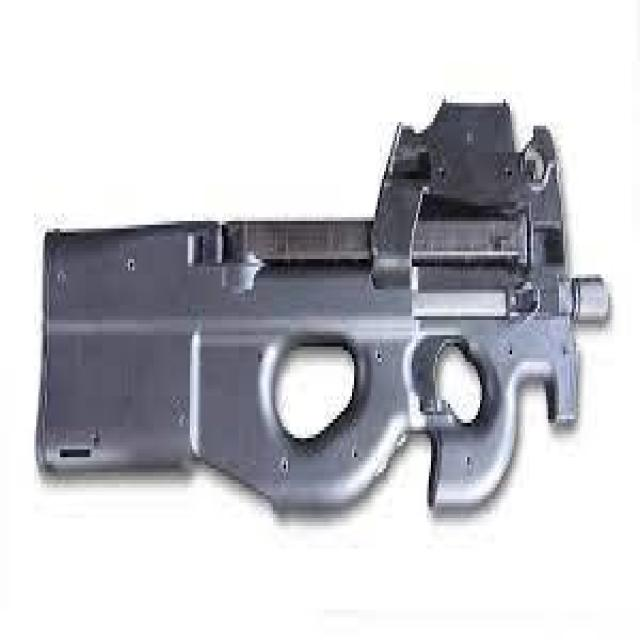Gun: (47, 89, 610, 586)
